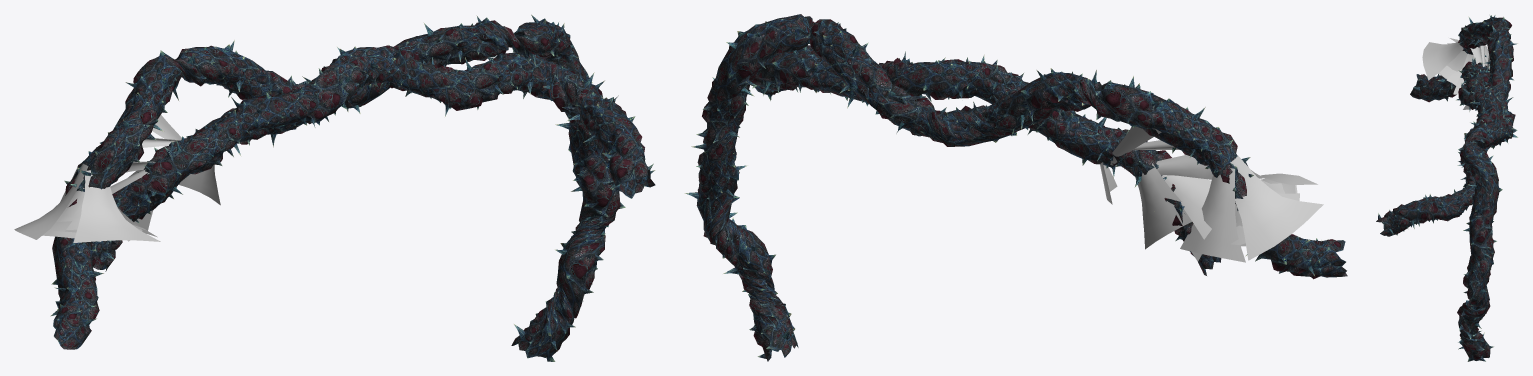
Rendered from L03_Heltree10.fbx.
The picture shows the model from 3 angles, left to right: view 1: azimuth 30°, elevation 25°; view 2: azimuth 150°, elevation 25°; view 3: azimuth 270°, elevation 25°; orthographic projection. The views are drawn at different scales.
Visible parts, largest first — view 1: LODGroup_2_MainMesh_3_SubMesh_2, LODGroup_2_MainMesh_2_SubMesh_1, LODGroup_2_MainMesh_3_SubMesh_1, LODGroup_2_MainMesh_2_SubMesh_2, LODGroup_2_MainMesh_1_SubMesh_1; view 2: LODGroup_2_MainMesh_3_SubMesh_1, LODGroup_2_MainMesh_3_SubMesh_2, LODGroup_2_MainMesh_1_SubMesh_1, LODGroup_2_MainMesh_2_SubMesh_1, LODGroup_2_MainMesh_2_SubMesh_2; view 3: LODGroup_2_MainMesh_3_SubMesh_1, LODGroup_2_MainMesh_3_SubMesh_2, LODGroup_2_MainMesh_2_SubMesh_1, LODGroup_2_MainMesh_1_SubMesh_1, LODGroup_2_MainMesh_2_SubMesh_2.
Boxes of the visible parts, <box> form: LODGroup_2_MainMesh_3_SubMesh_2: <box>51,17,615,361</box>; LODGroup_2_MainMesh_2_SubMesh_1: <box>93,45,655,271</box>; LODGroup_2_MainMesh_3_SubMesh_1: <box>50,14,625,357</box>; LODGroup_2_MainMesh_2_SubMesh_2: <box>92,46,655,263</box>; LODGroup_2_MainMesh_1_SubMesh_1: <box>14,115,220,242</box>; LODGroup_2_MainMesh_3_SubMesh_1: <box>684,16,1347,361</box>; LODGroup_2_MainMesh_3_SubMesh_2: <box>696,14,1345,357</box>; LODGroup_2_MainMesh_1_SubMesh_1: <box>1100,126,1323,262</box>; LODGroup_2_MainMesh_2_SubMesh_1: <box>751,45,1213,275</box>; LODGroup_2_MainMesh_2_SubMesh_2: <box>751,46,1221,262</box>; LODGroup_2_MainMesh_3_SubMesh_1: <box>1410,15,1518,361</box>; LODGroup_2_MainMesh_3_SubMesh_2: <box>1413,15,1513,361</box>; LODGroup_2_MainMesh_2_SubMesh_1: <box>1376,57,1503,234</box>; LODGroup_2_MainMesh_1_SubMesh_1: <box>1422,38,1490,109</box>; LODGroup_2_MainMesh_2_SubMesh_2: <box>1380,62,1505,236</box>.
Size of the model in its own units: 2549 by 1513 by 833.
